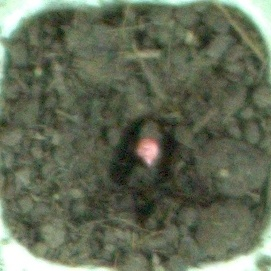chilli seed: (132, 136, 164, 167)
